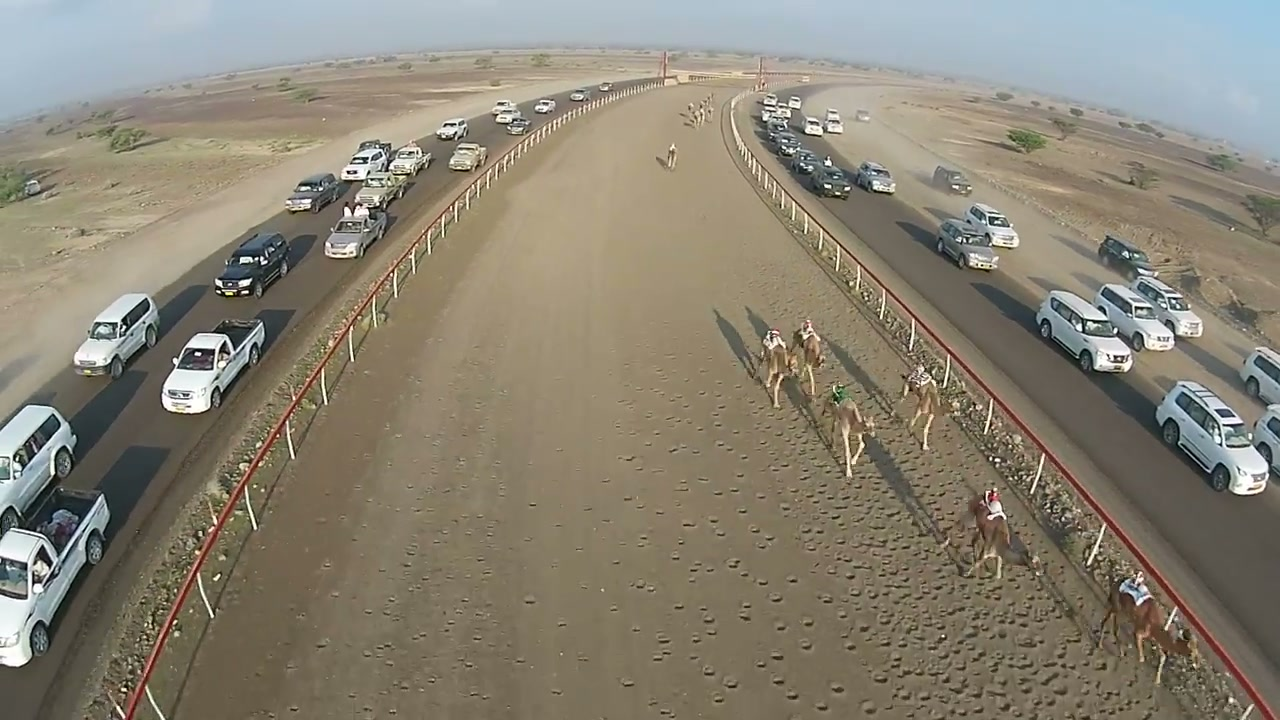animal_footprint: (662, 424, 1133, 711)
